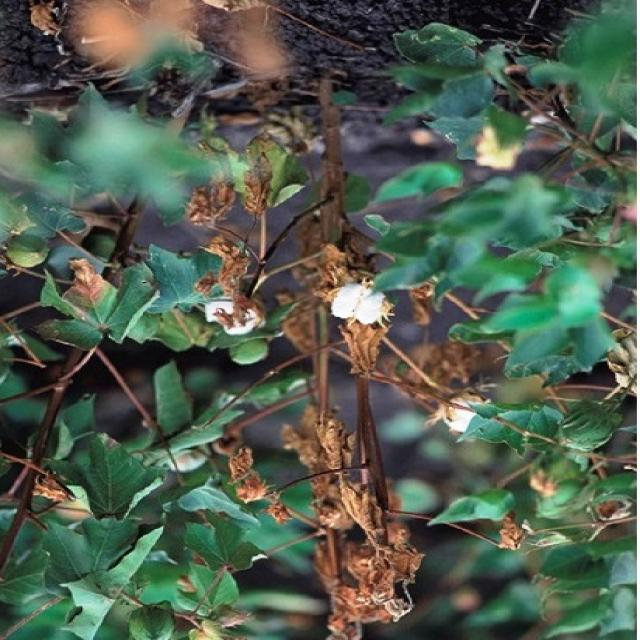Fusarium Wilt: (46, 0, 492, 640)
